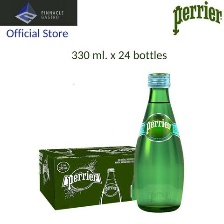bottle: (128, 61, 186, 214)
